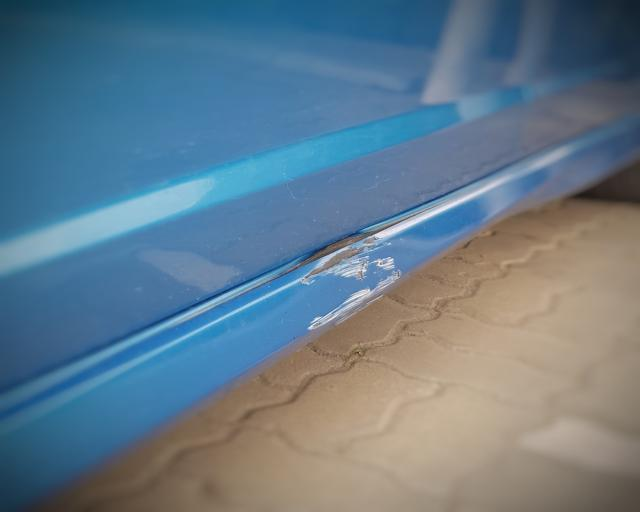scratch: (294, 229, 407, 337)
